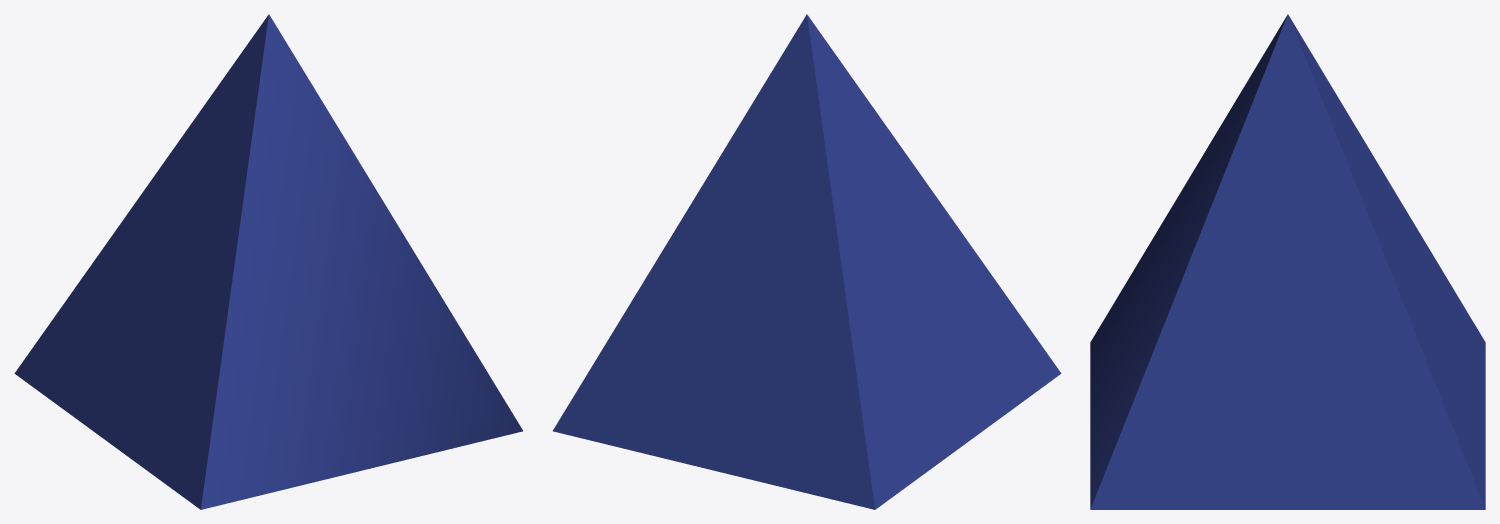
The model's file is ETH_ZTSC.fbx.
3 renders of one model, left to right at view 1: azimuth 30°, elevation 25°; view 2: azimuth 150°, elevation 25°; view 3: azimuth 270°, elevation 25°, orthographic. The views are drawn at different scales.
Parts seen in each view (by area): view 1: ZhuiTi; view 2: ZhuiTi; view 3: ZhuiTi.
Boxes of the visible parts, x1,y1,x2,y2 form: ZhuiTi: (14,14,522,509); ZhuiTi: (553,14,1061,509); ZhuiTi: (1090,14,1485,509).
Bounding box in the file's own units: 61.64 × 70.9 × 61.64.
